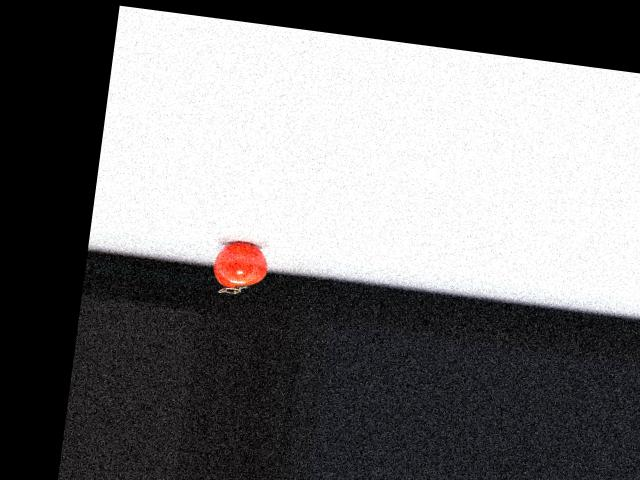tomato: (211, 238, 271, 292)
